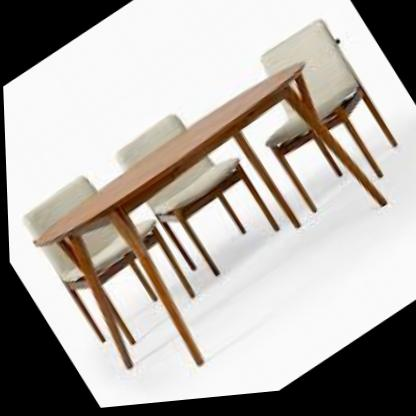Dining Table: (1, 0, 416, 416)
